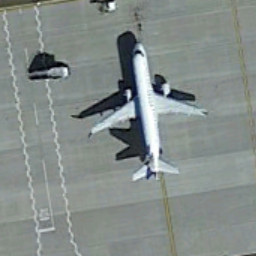Airplane: (81, 27, 211, 190)
